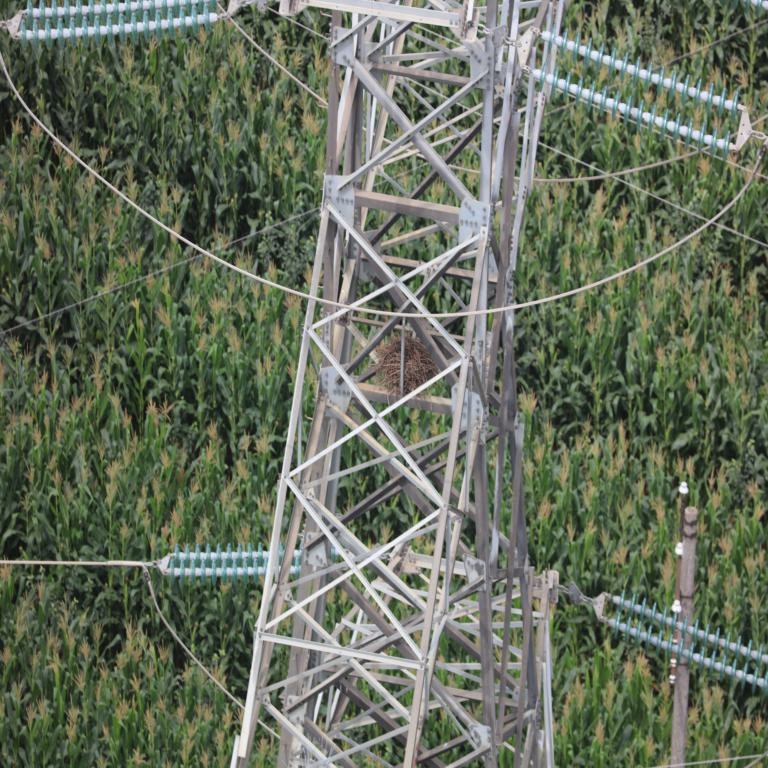nest: (375, 331, 430, 394)
